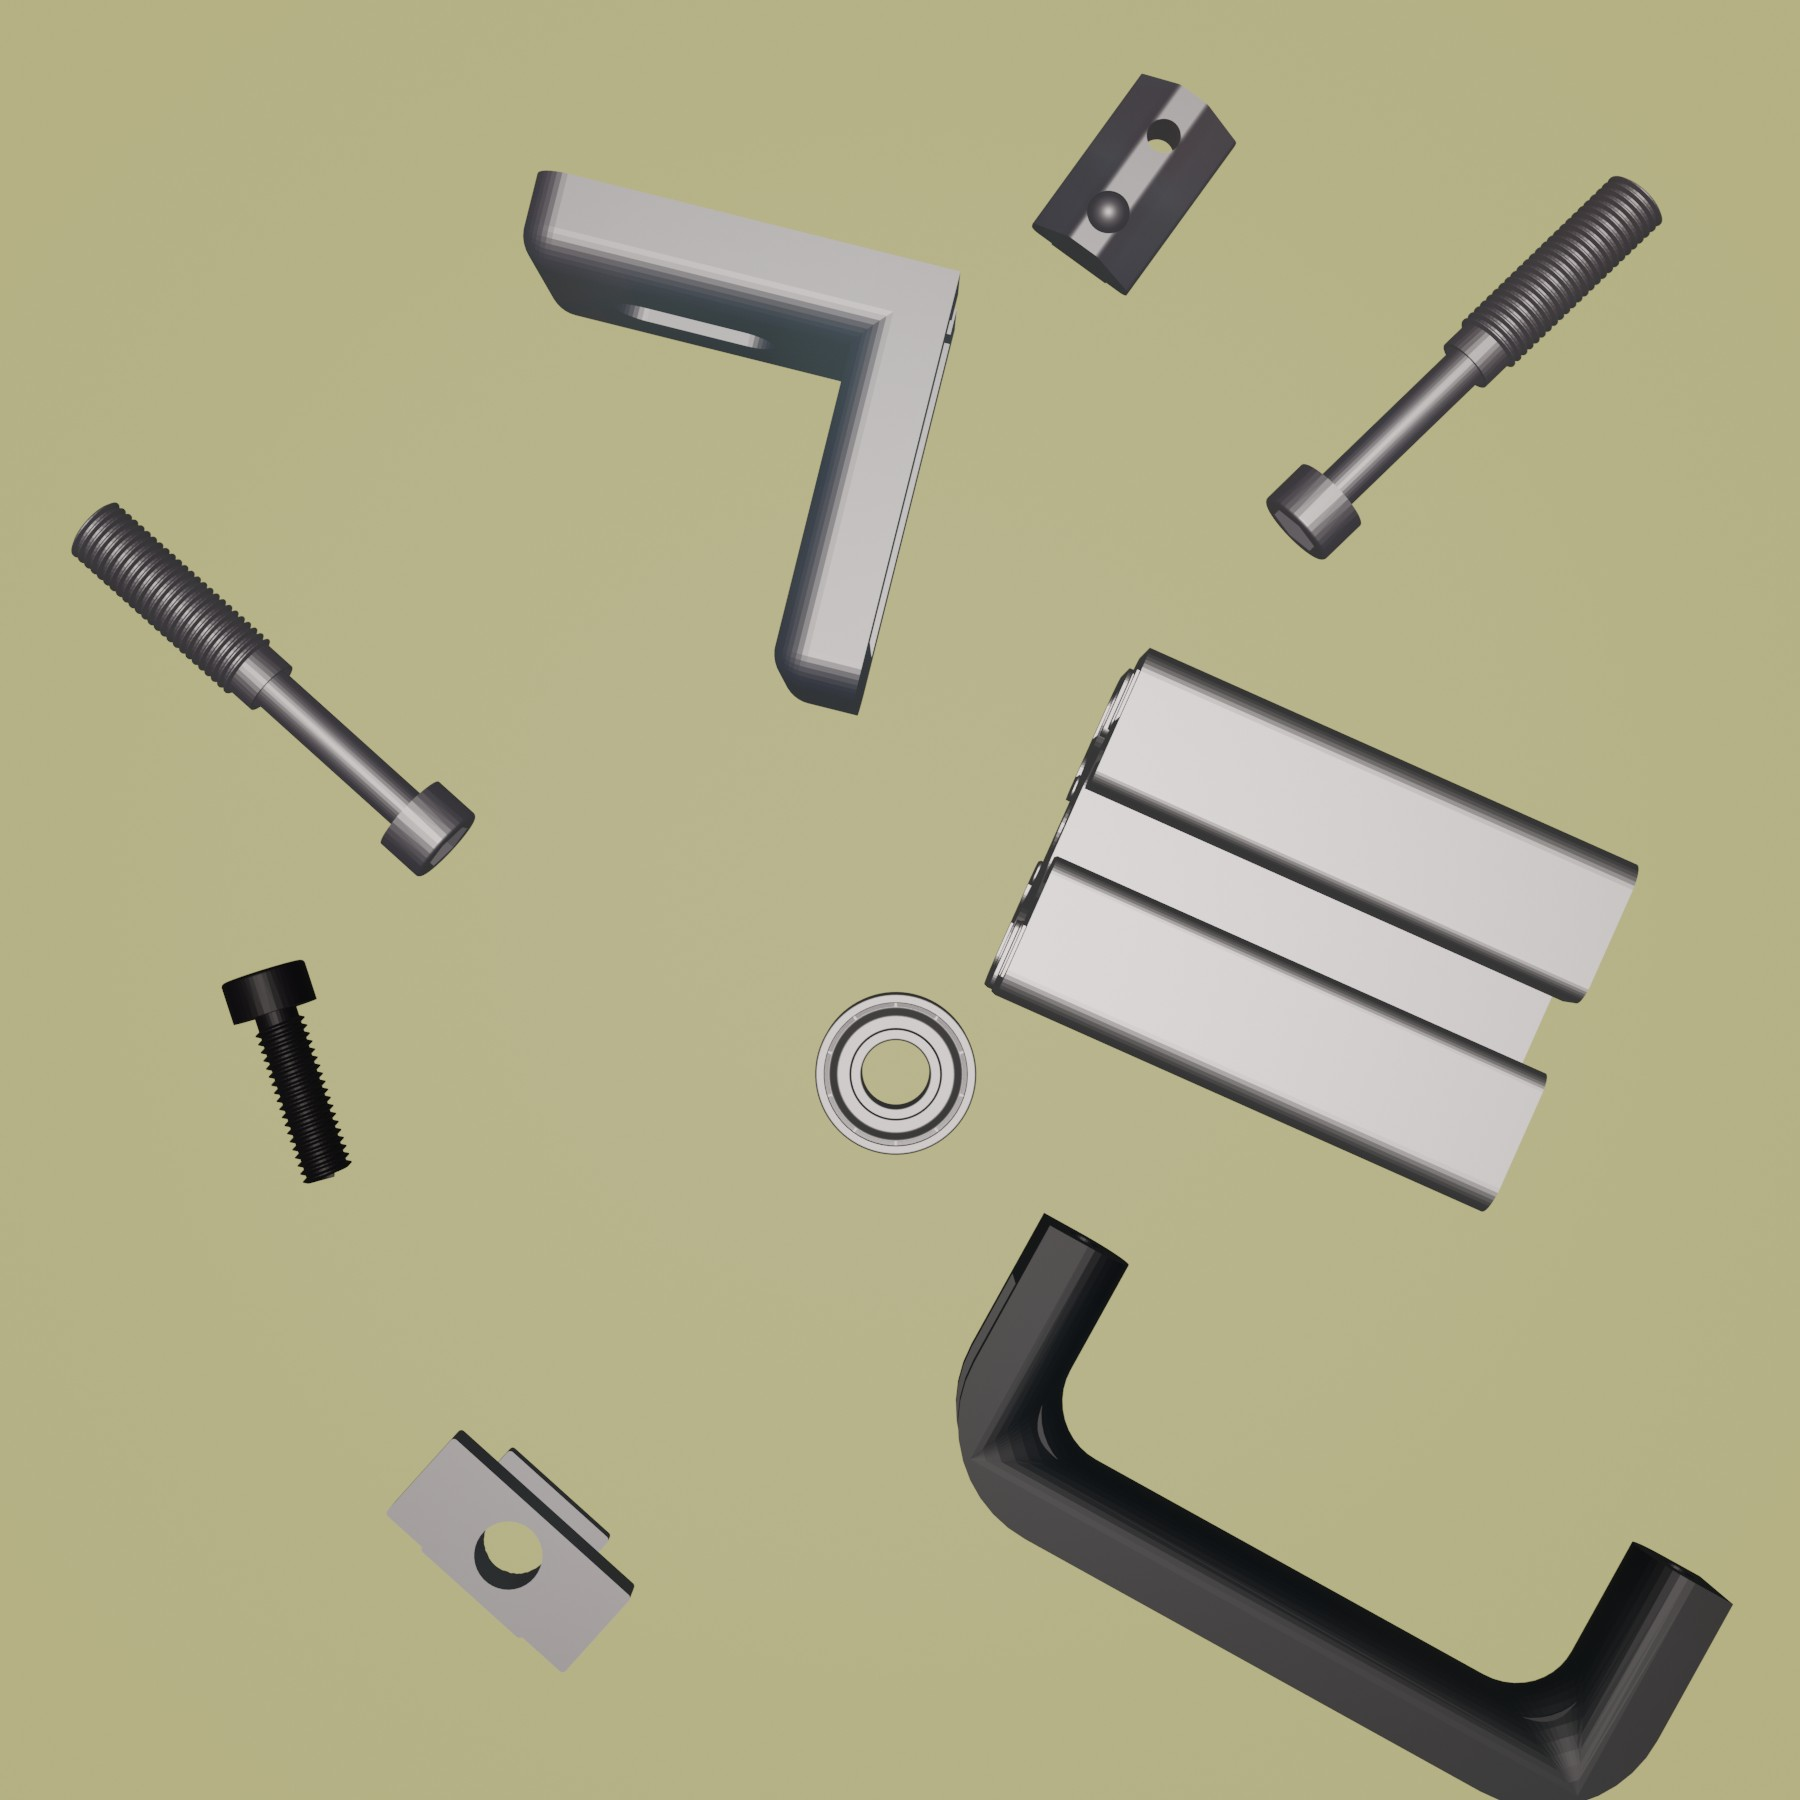Aluminium Extension: (982, 646, 1640, 1215)
Ball Bearing: (813, 987, 979, 1159)
Multiwinkel: (519, 165, 963, 720)
Pull Handle: (954, 1208, 1736, 1800)
Shoulder Socket Head Cap Screw: (1261, 173, 1663, 562), (68, 499, 475, 880)
Socket Head Cap Screw: (219, 954, 354, 1187)
T Nut Square: (382, 1423, 636, 1676)
T Spring Nut: (1029, 69, 1238, 298)
